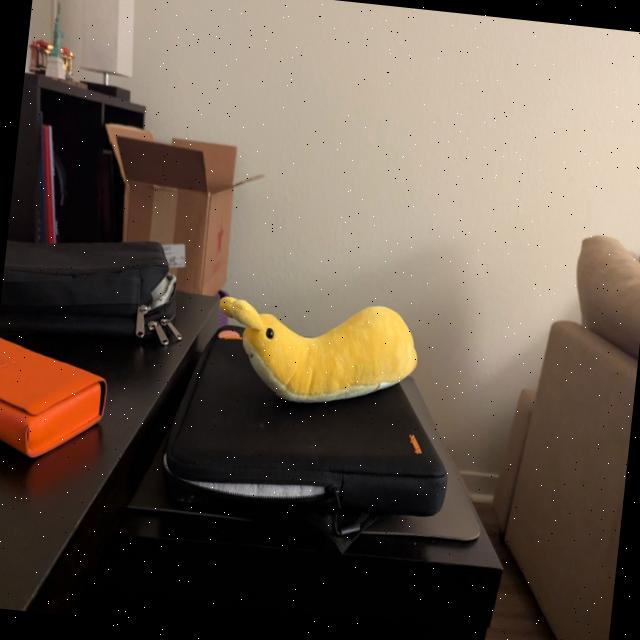banana-slug-toy: (205, 285, 432, 422)
